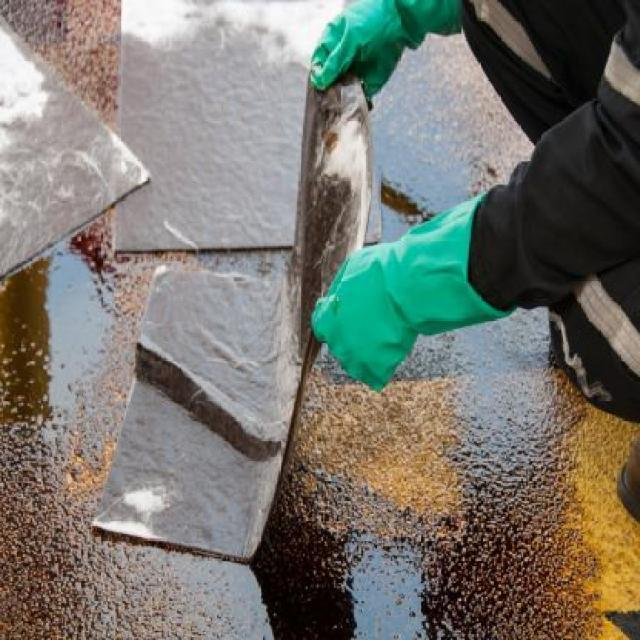spillage: (258, 313, 598, 640), (25, 545, 255, 640), (373, 34, 476, 235)
